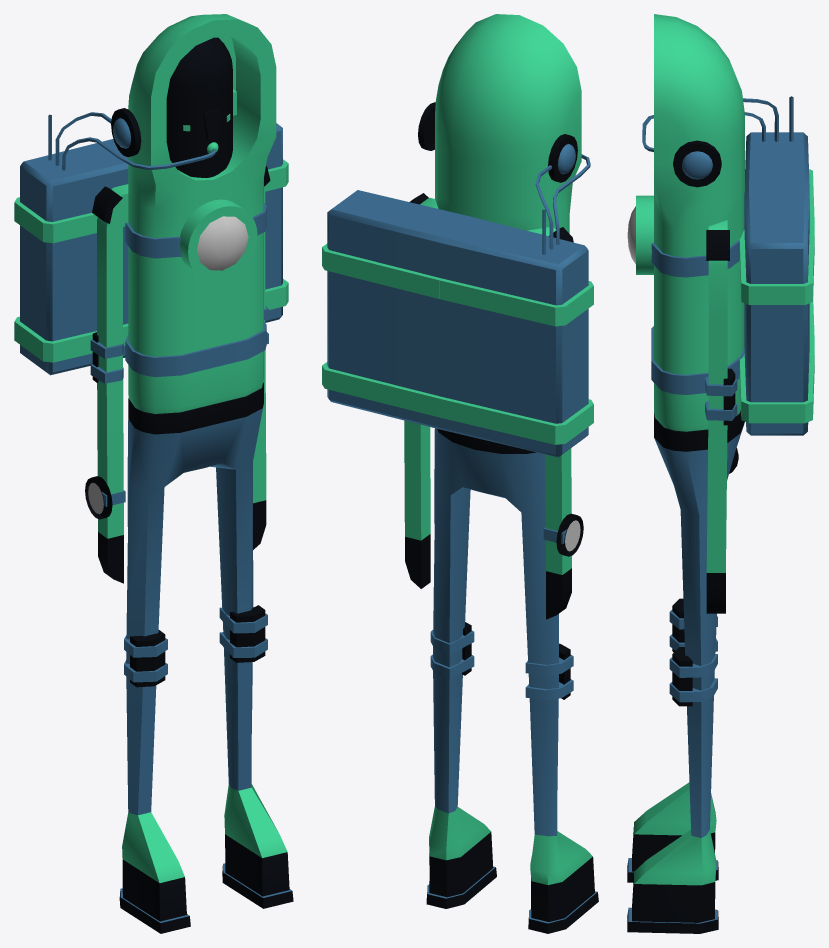
Rendered from char_viajero.obj.
The picture shows the model from 3 angles, left to right: view 1: azimuth 30°, elevation 25°; view 2: azimuth 150°, elevation 25°; view 3: azimuth 270°, elevation 25°; orthographic projection.
Visible parts, largest first — view 1: Cube.001; view 2: Cube.001; view 3: Cube.001.
Boxes of the visible parts, x1=… form: Cube.001: x1=14, y1=14, x2=293, y2=933; Cube.001: x1=322, y1=14, x2=598, y2=933; Cube.001: x1=627, y1=14, x2=814, y2=933.
Size of the model in its own units: 0.5369 by 1.85 by 0.3587.
